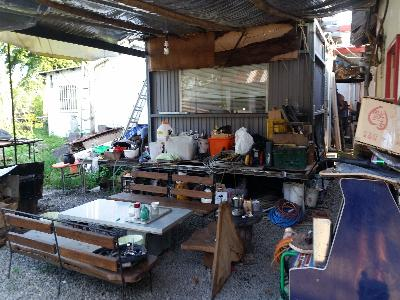bottle: (157, 119, 173, 143), (148, 141, 163, 159)
bowl: (122, 148, 140, 160), (60, 152, 76, 165)
box: (350, 93, 400, 154), (311, 216, 331, 265), (162, 137, 196, 161), (205, 130, 233, 158)
bucket: (290, 185, 304, 204), (305, 188, 319, 207)
